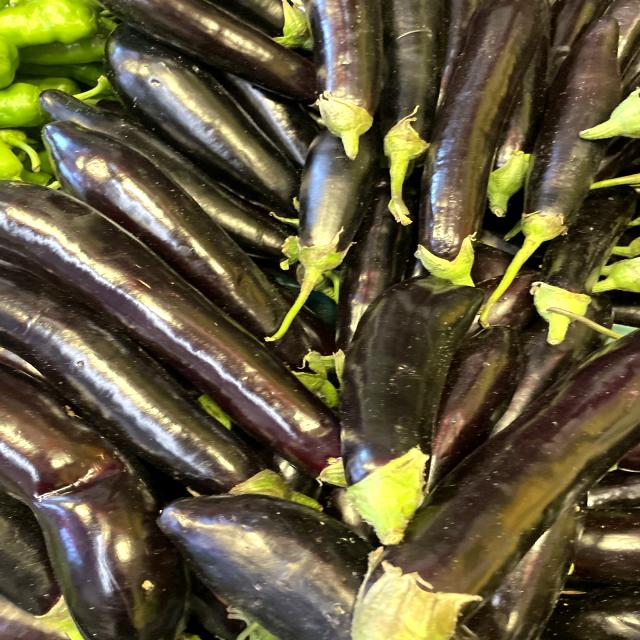eggplant: (332, 272, 495, 554), (412, 0, 561, 285), (236, 118, 396, 353), (298, 0, 391, 171)
